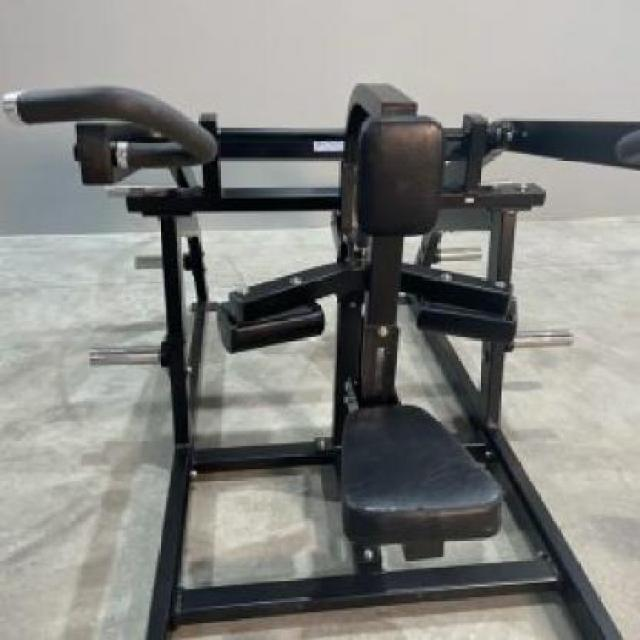seated dip machine: (1, 84, 640, 640)
